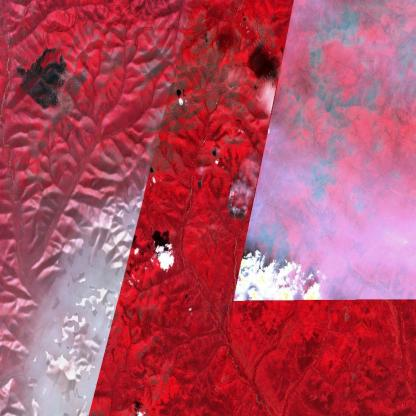fire: (226, 169, 250, 224)
